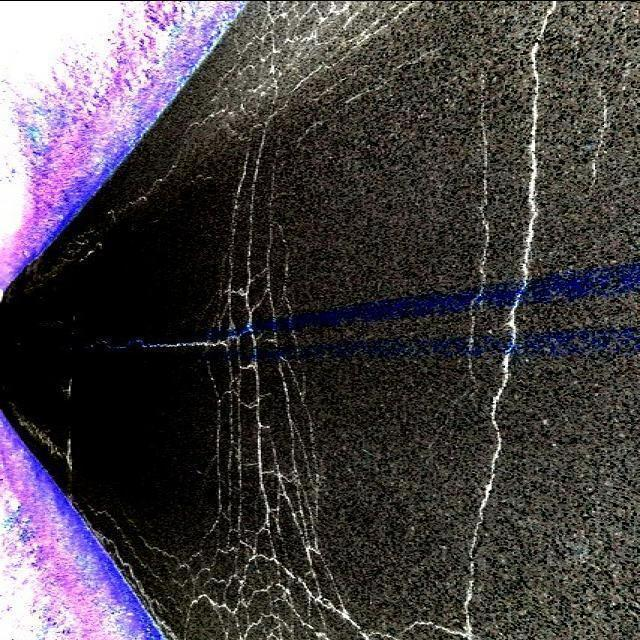GRIETA: (463, 0, 556, 639), (469, 71, 490, 352), (589, 88, 609, 191), (492, 417, 500, 456)
PIEL DE COCODRILO: (74, 121, 480, 639), (211, 0, 434, 142)
